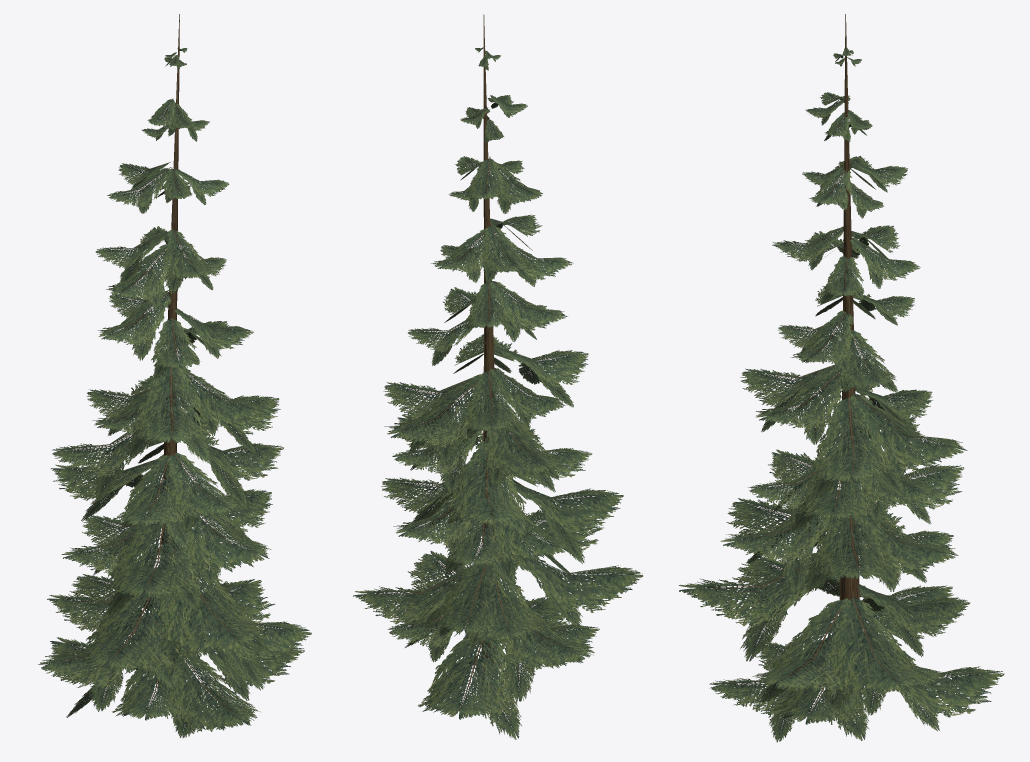
Rendered from Spruce.glb.
The picture shows the model from 3 angles, left to right: view 1: azimuth 30°, elevation 25°; view 2: azimuth 150°, elevation 25°; view 3: azimuth 270°, elevation 25°; orthographic projection. The views are drawn at different scales.
Visible parts, largest first — view 1: Spruce; view 2: Spruce; view 3: Spruce.
Part boxes in pixels (<box>): Spruce: <box>38,14,311,737</box>; Spruce: <box>353,14,642,739</box>; Spruce: <box>679,14,1004,742</box>.
Bounding box in the file's own units: 0.4283 × 1.07 × 0.4508.
Materials: 1 (1 with a texture image).
